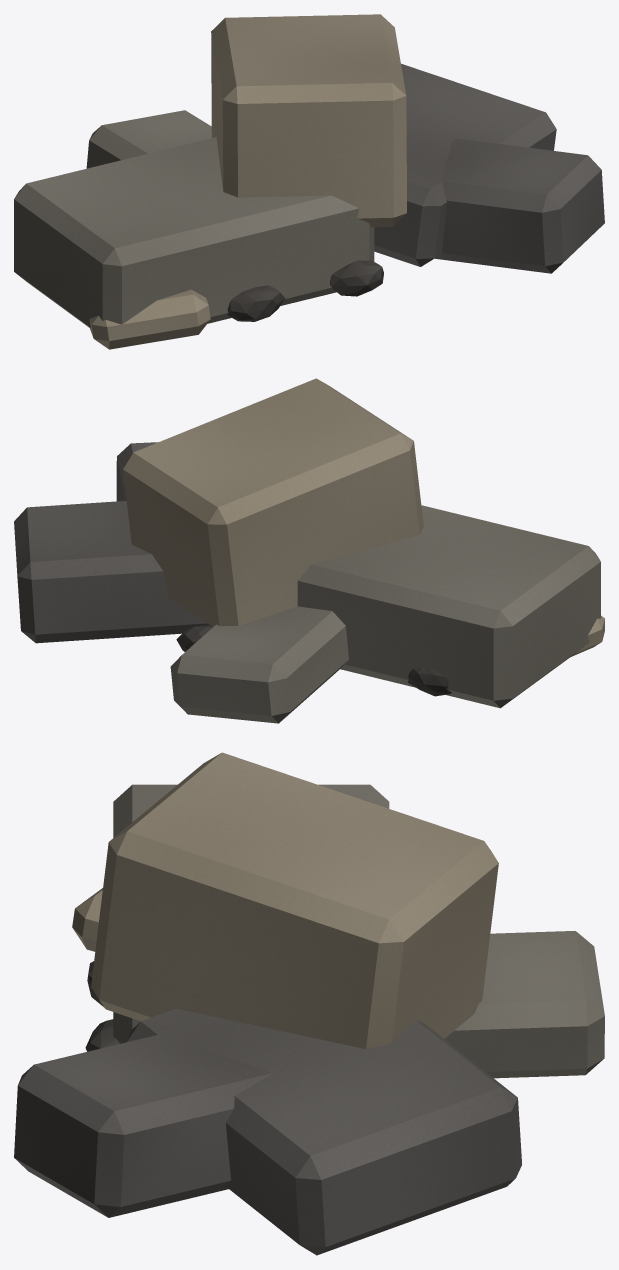
The model's file is prop_rubble.fbx.
3 renders of one model, top to bottom at view 1: azimuth 30°, elevation 25°; view 2: azimuth 150°, elevation 25°; view 3: azimuth 270°, elevation 25°, orthographic. The views are drawn at different scales.
Parts seen in each view (by area): view 1: prop_rubble; view 2: prop_rubble; view 3: prop_rubble.
Boxes of the visible parts, x1,y1,x2,y2 form: prop_rubble: [14, 14, 604, 349]; prop_rubble: [14, 378, 604, 723]; prop_rubble: [14, 752, 604, 1255].
Size of the model in its own units: 56.03 by 40.71 by 21.58.
Materials: 1 (1 with a texture image).
